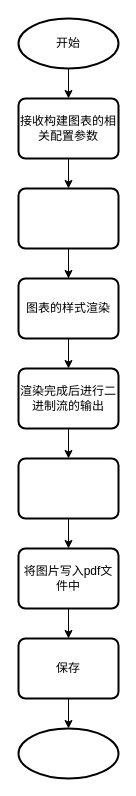
Some shapes in this 136 by 796 pixel diagram are drawn without their labels. Each missing label, with the box of its shape:
二进制流转成图片流格式: (17, 457, 119, 519)
结束: (17, 727, 119, 779)
进行图表的数据填充: (17, 187, 119, 249)
